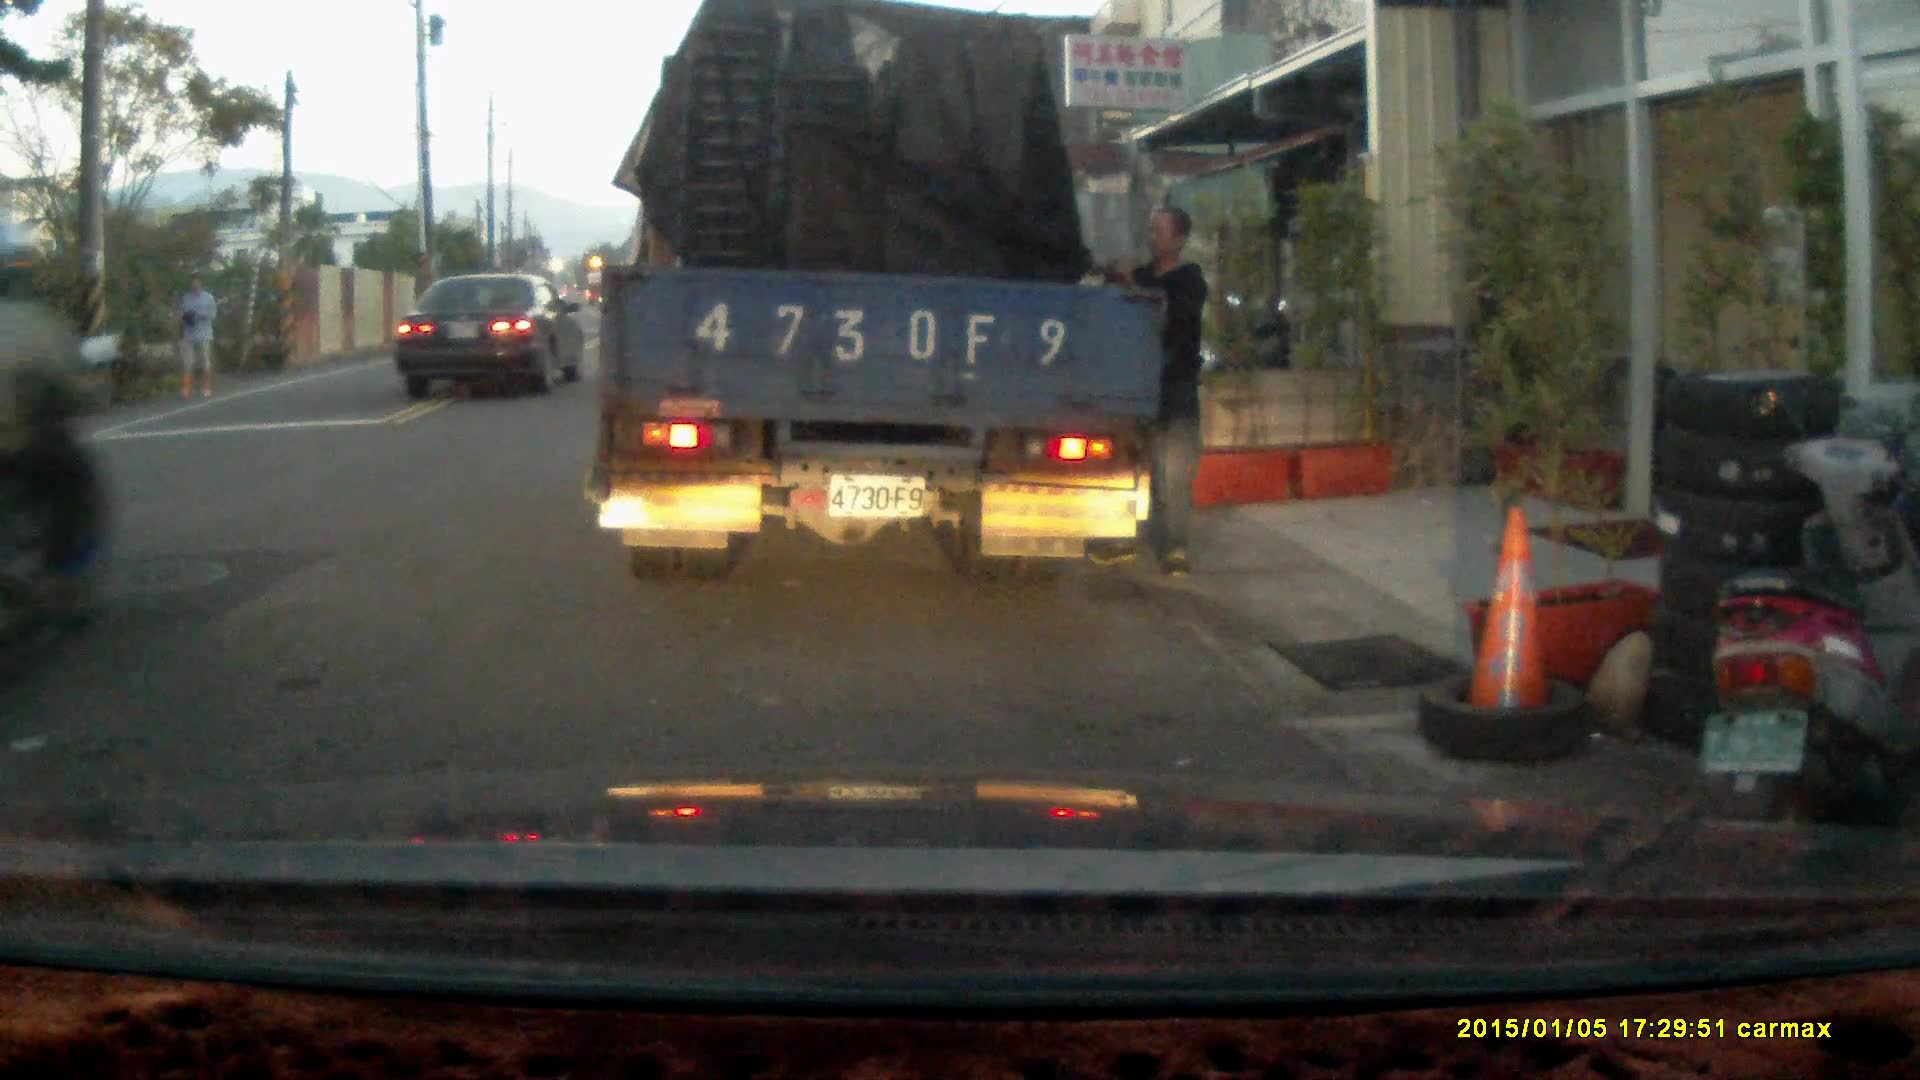pedestrian: (1085, 206, 1211, 581), (173, 273, 219, 405)
rider: (0, 215, 114, 711)
vehicle: (599, 23, 1166, 572), (400, 270, 587, 403)
